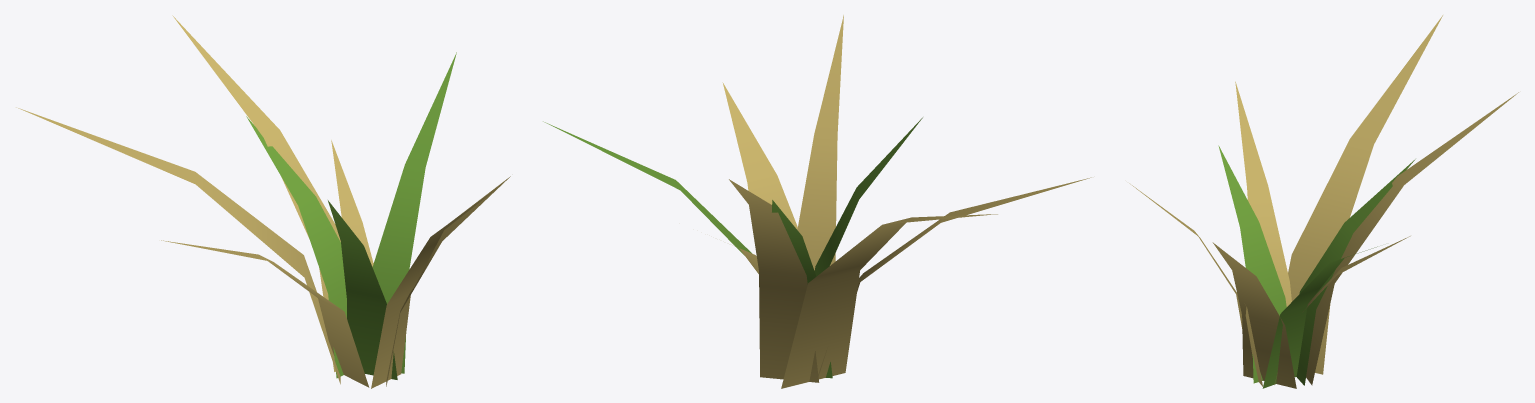
File: grass_c.glb
3 views of the same model, side by side, from view 1: azimuth 30°, elevation 25°; view 2: azimuth 150°, elevation 25°; view 3: azimuth 270°, elevation 25° (orthographic). The views are drawn at different scales.
Visible parts, largest first — view 1: grass_c; view 2: grass_c; view 3: grass_c.
Boxes of the visible parts, x1,y1,x2,y2 form: grass_c: [16, 15, 510, 388]; grass_c: [543, 15, 1091, 388]; grass_c: [1129, 15, 1518, 388].
Bounding box in the file's own units: 0.6511 × 0.4098 × 0.5746.
